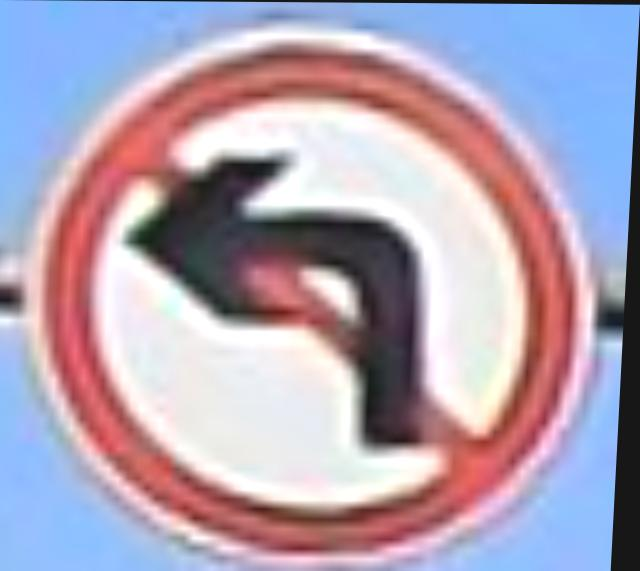not_turn_left: (31, 24, 623, 560)
